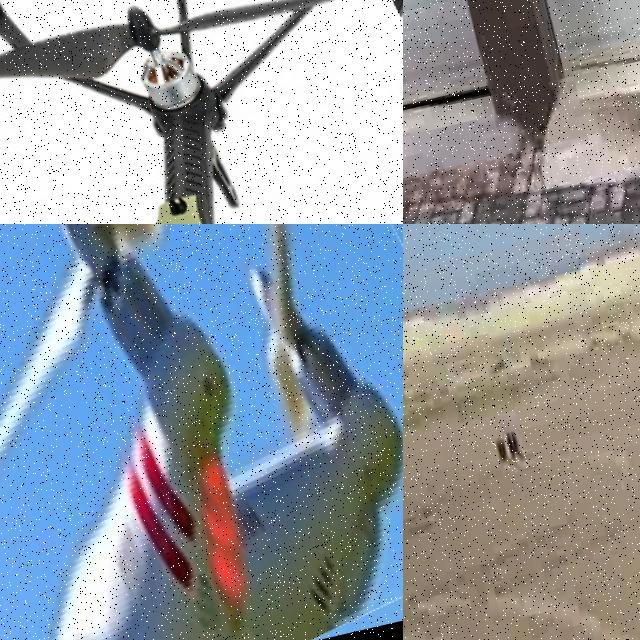drone: (0, 224, 403, 640), (0, 0, 403, 224)
